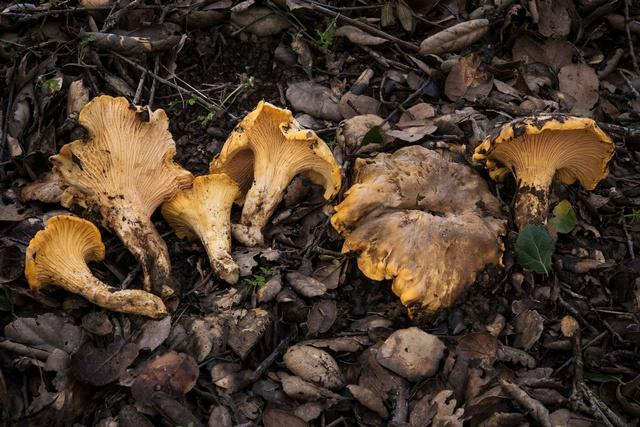edible_mushroom: (329, 144, 507, 324), (47, 93, 194, 299), (208, 98, 342, 246), (471, 111, 615, 231), (23, 213, 168, 320), (160, 171, 241, 284)
